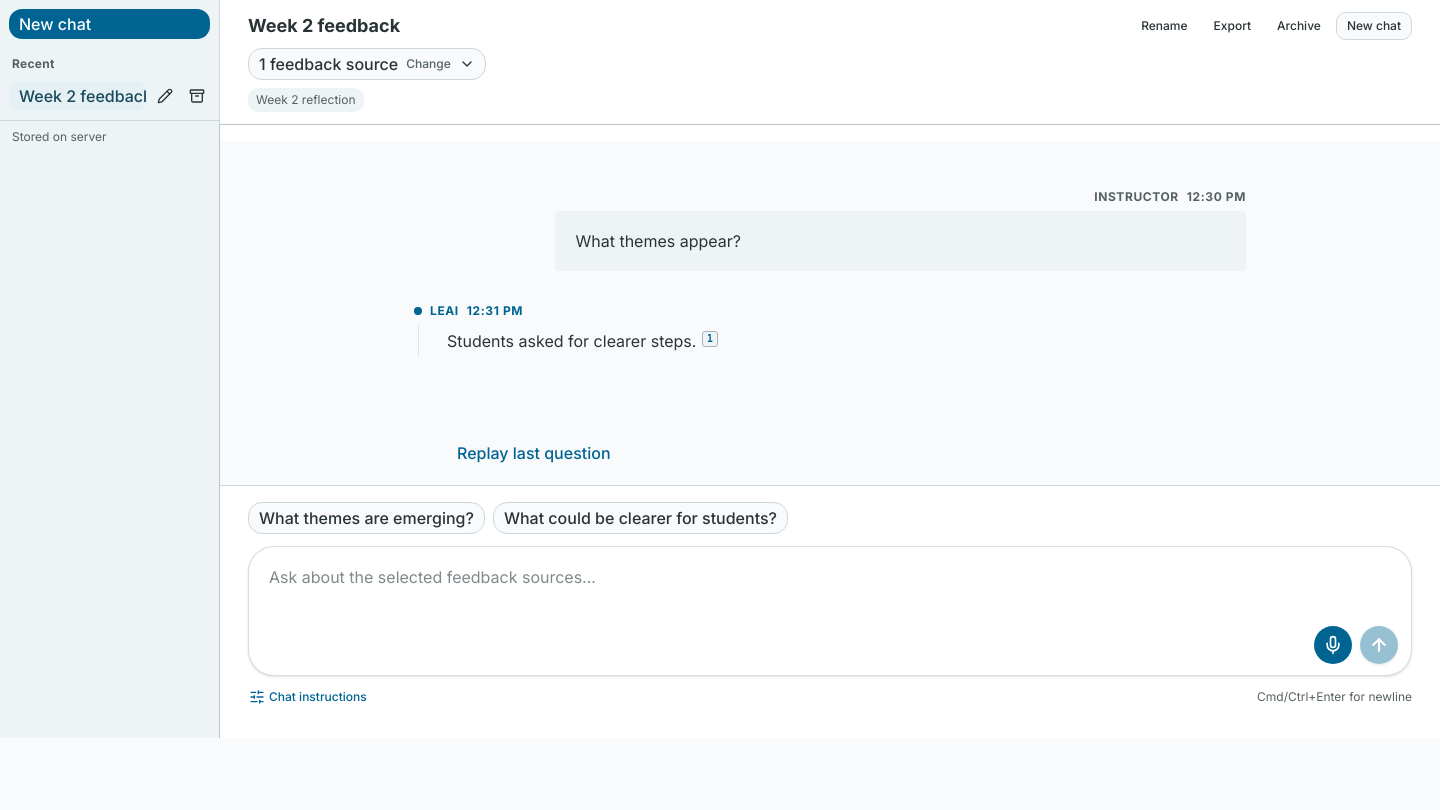
Test: creates a Chat and composes the existing transcript, messages, composer, and citations
Check: the button "Week 2 feedback" is shown, box [8,80,147,112]
Check: the button with aria-label "Create another Chat" is shown, box [1336,12,1412,40]
Click the 1st button "New chat". click: click(110, 24)
box: [8,8,211,40]
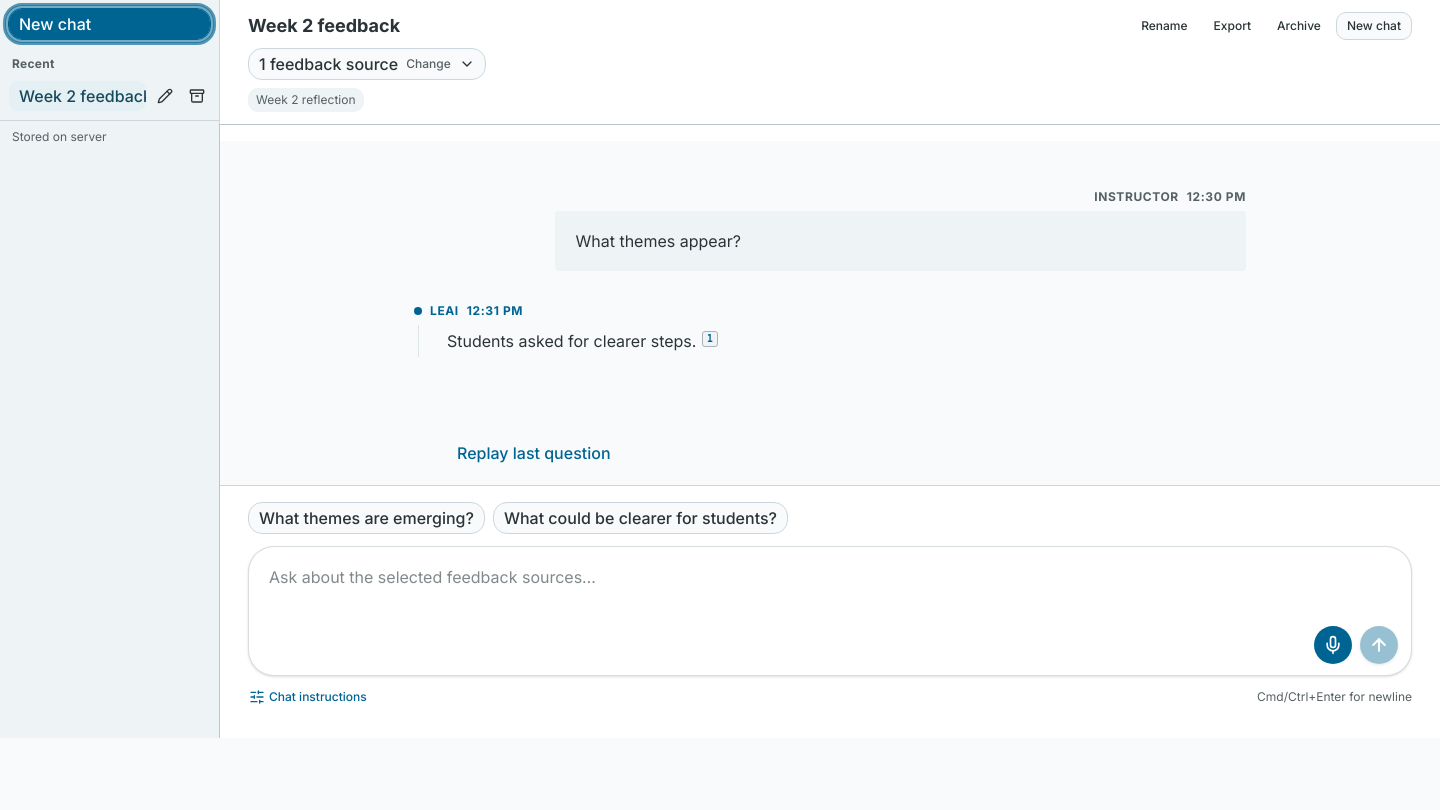
Check: the text "Students asked for clearer steps." is shown, box [447,331,701,351]
Check: the text "Instructor" is shown, box [1094,189,1179,204]
Click the button named "Open citation 1". click: click(710, 339)
box: [702,331,718,347]
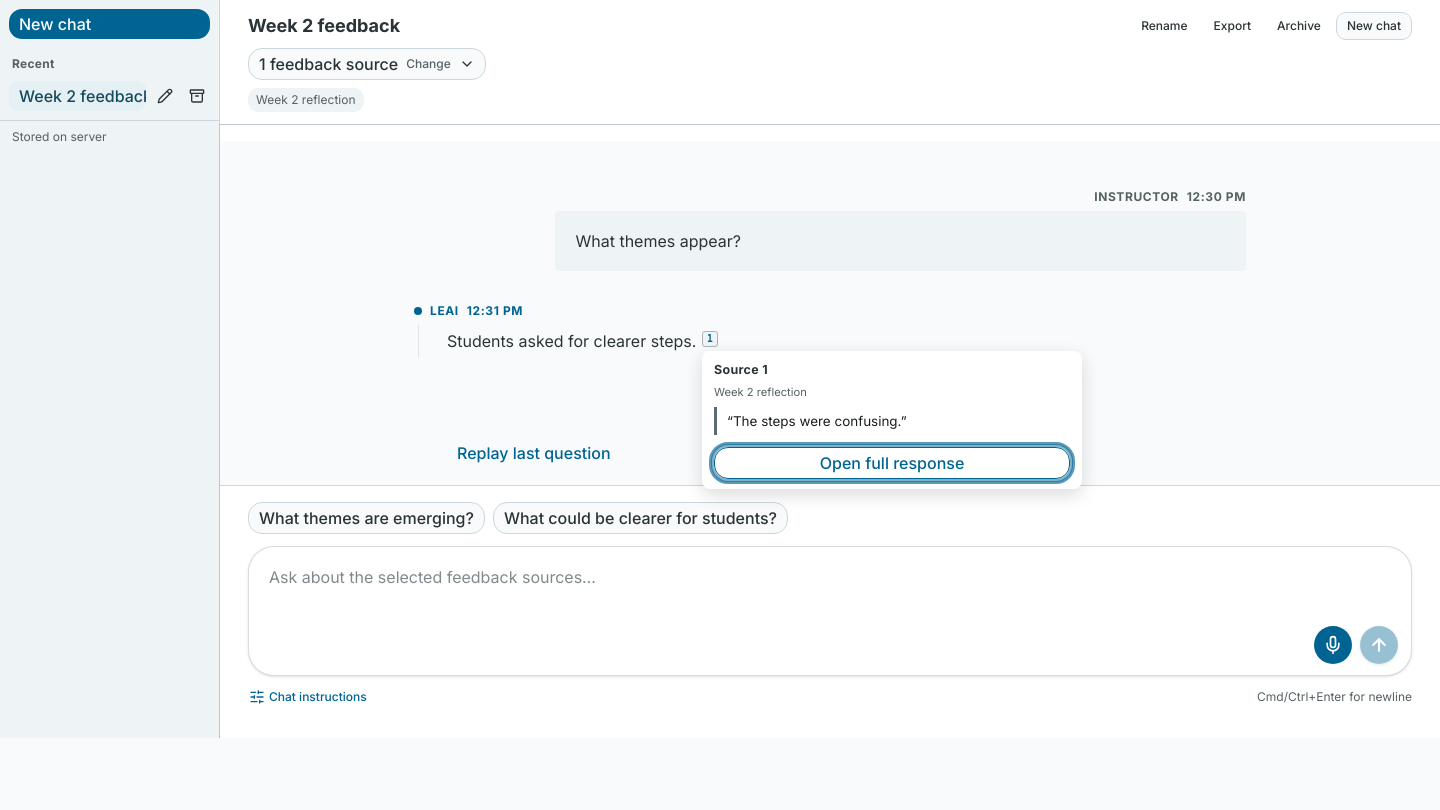
Check: the text box named "Message" is shown, box [259,557,1401,621]
Check: the text "“The steps were confusing.”" is shown, box [714,406,1070,435]
